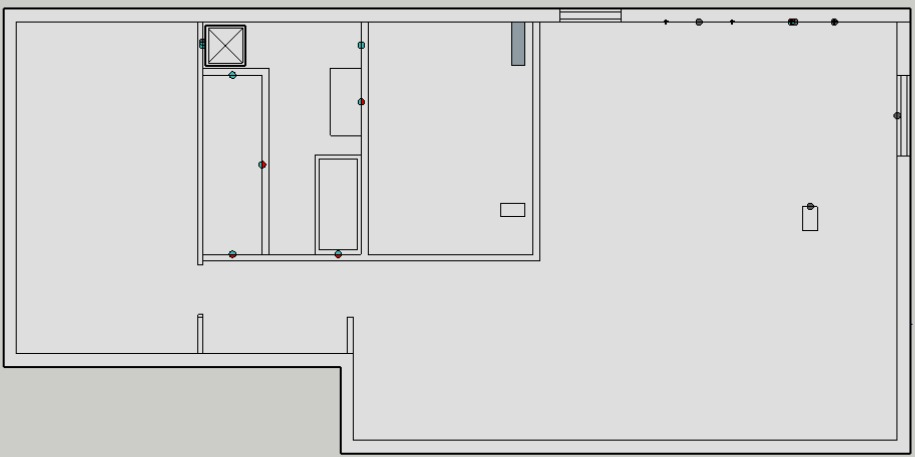window: (24, 6, 544, 20), (339, 439, 905, 451), (25, 351, 354, 366), (894, 162, 911, 427), (4, 8, 16, 365), (895, 75, 914, 157), (560, 5, 621, 23)
